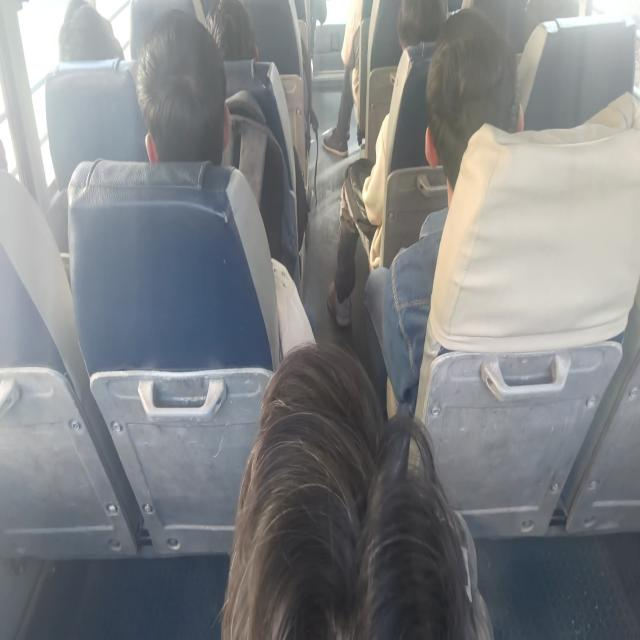person: (225, 318, 470, 640), (425, 36, 505, 204), (140, 32, 227, 162), (48, 0, 111, 76), (391, 0, 453, 59), (206, 5, 252, 60)
